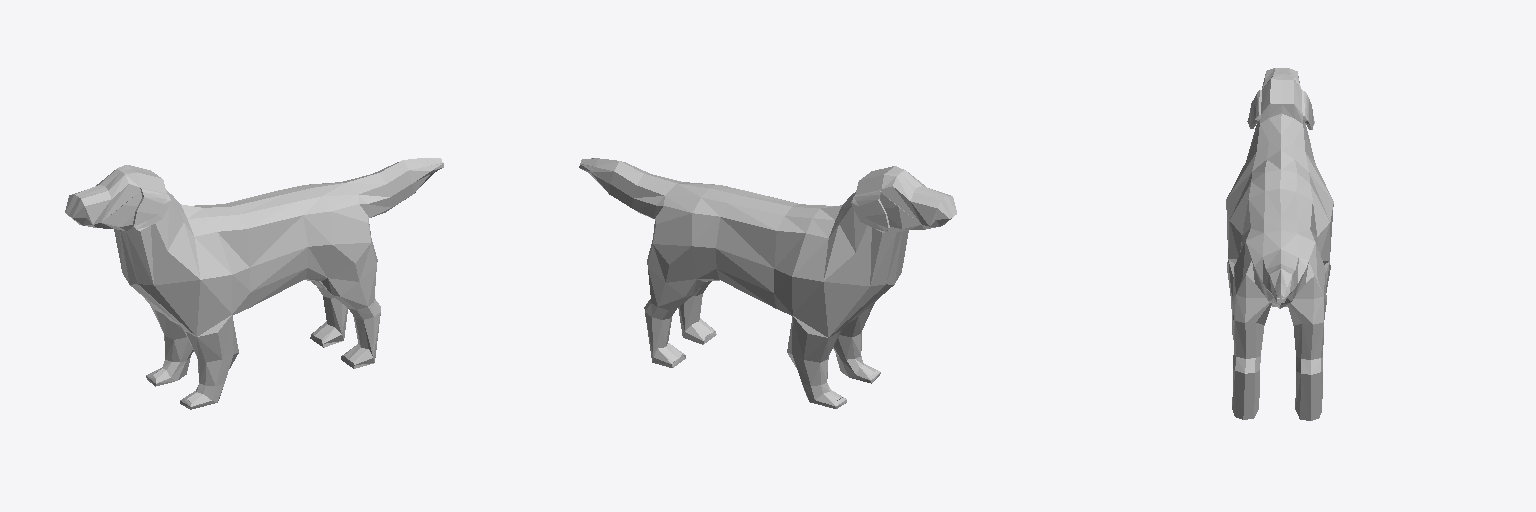
File: Retriver.obj
3 renders of one model, left to right at view 1: azimuth 30°, elevation 25°; view 2: azimuth 150°, elevation 25°; view 3: azimuth 270°, elevation 25°, orthographic.
Parts seen in each view (by area): view 1: Плоскость; view 2: Плоскость; view 3: Плоскость.
Part boxes in pixels (x1,y1,x2,y2): Плоскость: (65,158,443,409); Плоскость: (579,158,956,408); Плоскость: (1226,68,1333,420).
Size of the model in its own units: 12.99 by 7.77 by 3.24.